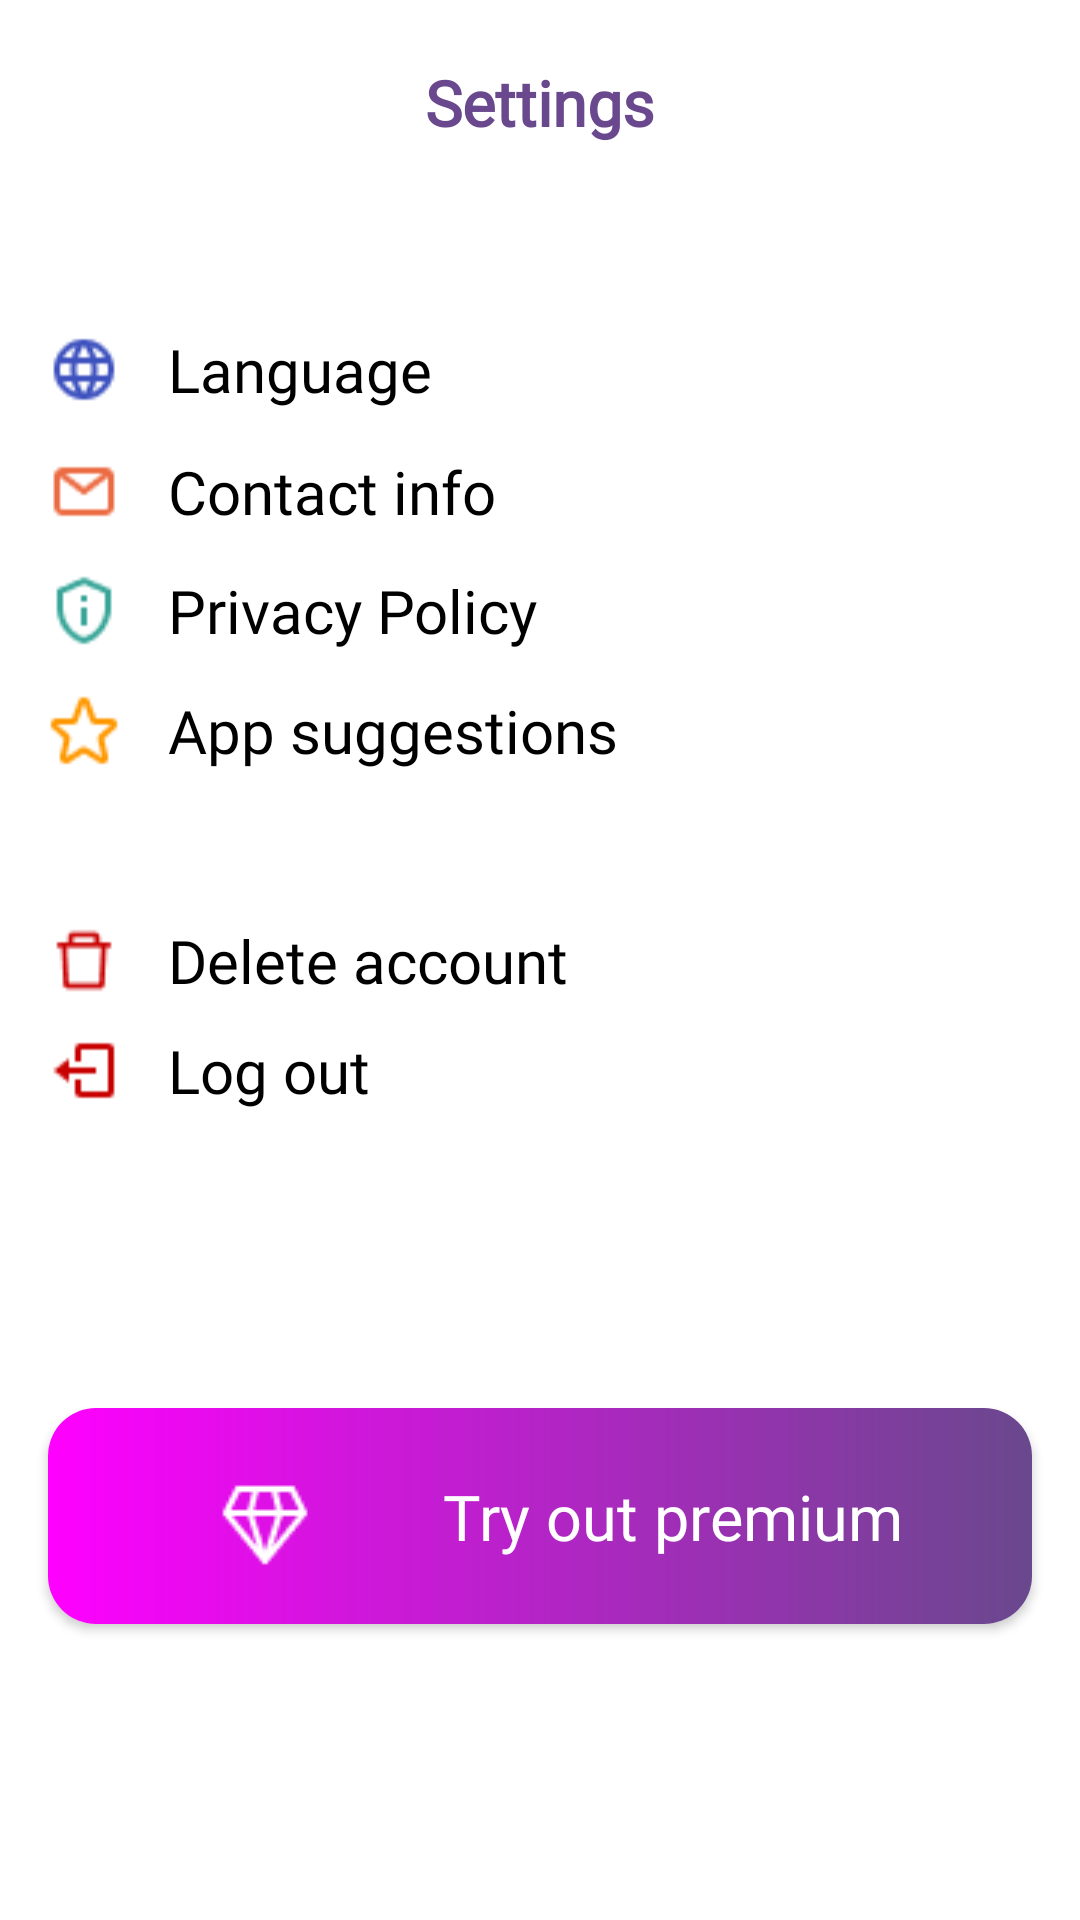

Icons on this 1080px×1920px Android screen, each with its box as (x1, y1, x2, y2):
fluent premium: (222, 1485, 308, 1565)
